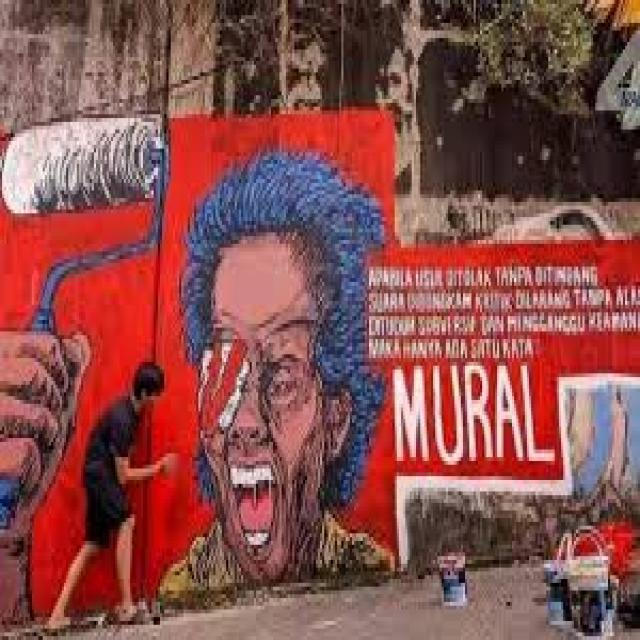-: (2, 106, 640, 628)
